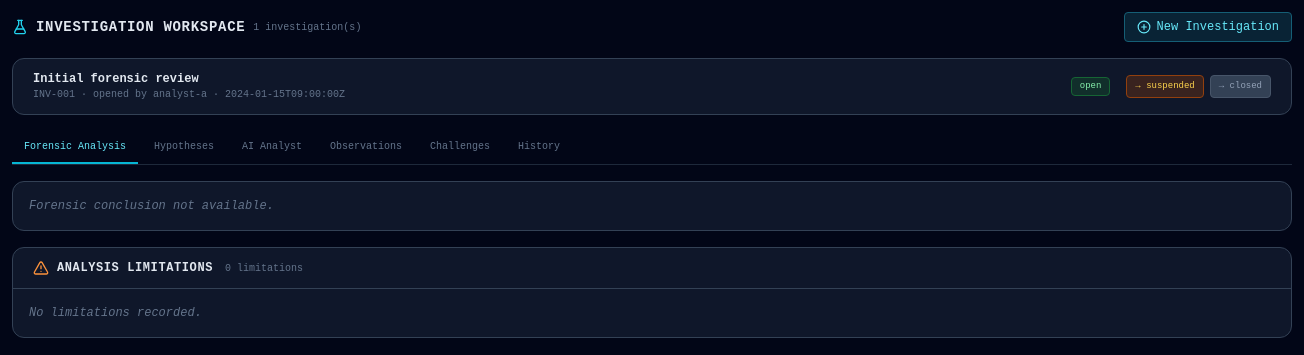
Test: InvestigationWorkspace › switches to hypotheses tab on click
The width and height of the screenshot is (1304, 355).
Click the button with test id "tab-hypotheses".
click(184, 148)  # box [142,131,226,164]
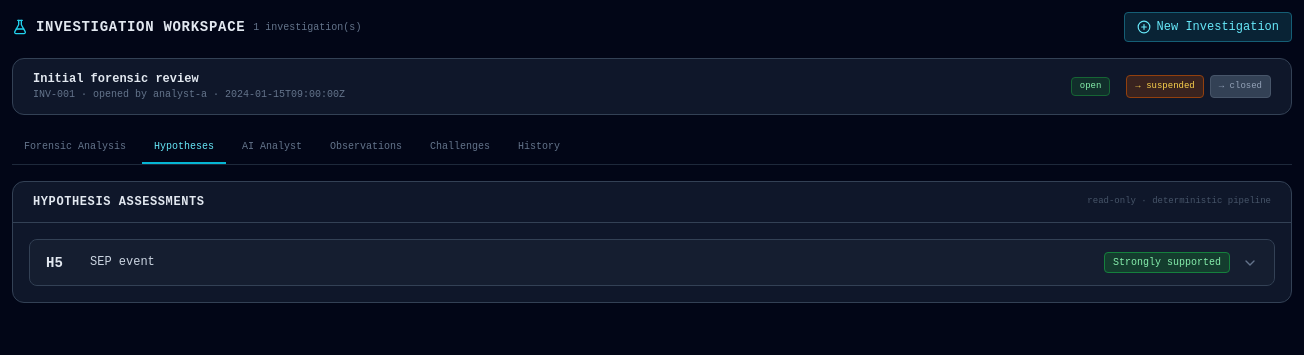
Check: the element with test id "tab-content-hypotheses" is shown, box [12,181,1292,303]
Check: the element with test id "tab-content-forensic" is gone
